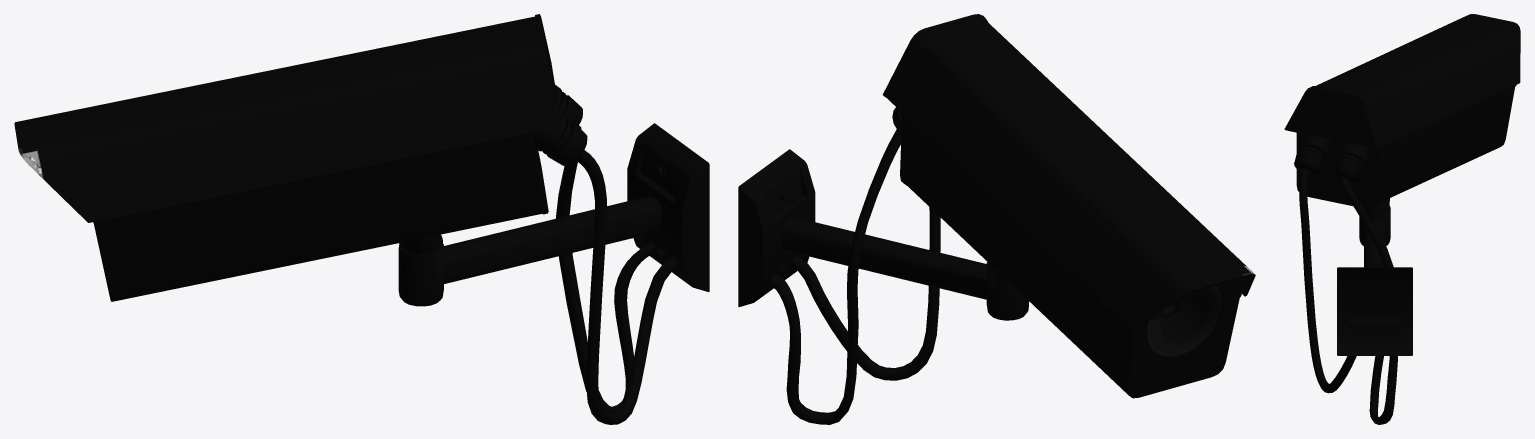
The model's file is cctv-camera.glb.
The picture shows the model from 3 angles, left to right: view 1: azimuth 30°, elevation 25°; view 2: azimuth 150°, elevation 25°; view 3: azimuth 270°, elevation 25°; orthographic projection. The views are drawn at different scales.
Parts seen in each view (by area): view 1: Object_17, Box001_21, Cylinder005_25, Line003_17, Box003_23, Cylinder002_7; view 2: Object_17, Box001_21, Line003_17, Cylinder005_25, Box003_23; view 3: Object_17, Box001_21, Box003_23, Line003_17, Cylinder002_7, Cylinder005_25, Cylinder004_27.
Boxes of the visible parts, box(x1,y1,x2,y2) form: Object_17: box(14, 14, 561, 222); Box001_21: box(93, 132, 548, 301); Cylinder005_25: box(398, 196, 661, 306); Line003_17: box(555, 125, 678, 424); Box003_23: box(627, 123, 709, 292); Cylinder002_7: box(531, 84, 587, 165); Object_17: box(882, 14, 1255, 328); Box001_21: box(900, 112, 1241, 398); Line003_17: box(769, 129, 940, 424); Cylinder005_25: box(782, 217, 1028, 320); Box003_23: box(738, 149, 815, 306); Object_17: box(1284, 14, 1520, 148); Box001_21: box(1296, 85, 1516, 208); Box003_23: box(1337, 267, 1412, 355); Line003_17: box(1299, 168, 1397, 424); Cylinder002_7: box(1294, 134, 1371, 183); Cylinder005_25: box(1359, 206, 1390, 267); Cylinder004_27: box(1364, 198, 1389, 213).
Bounding box in the file's own units: 0.4 × 0.2803 × 0.2023.
2 materials, 2 textured.
